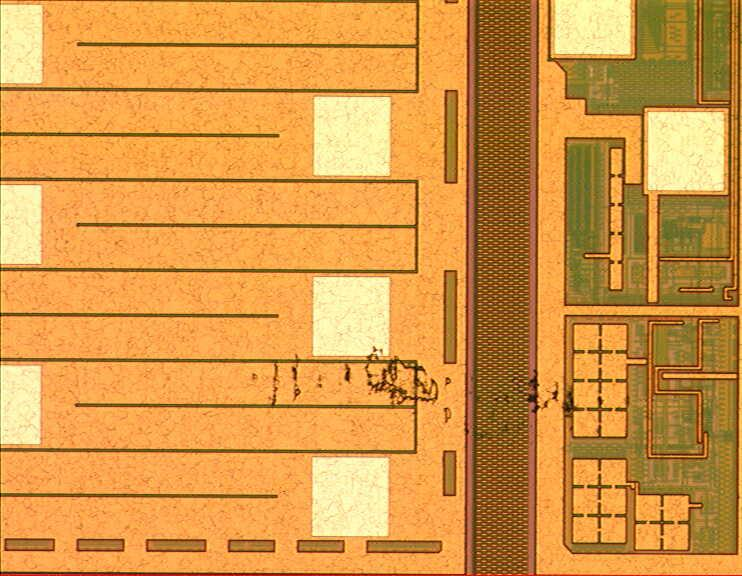PO CONTAMINATION: (244, 347, 612, 445)
